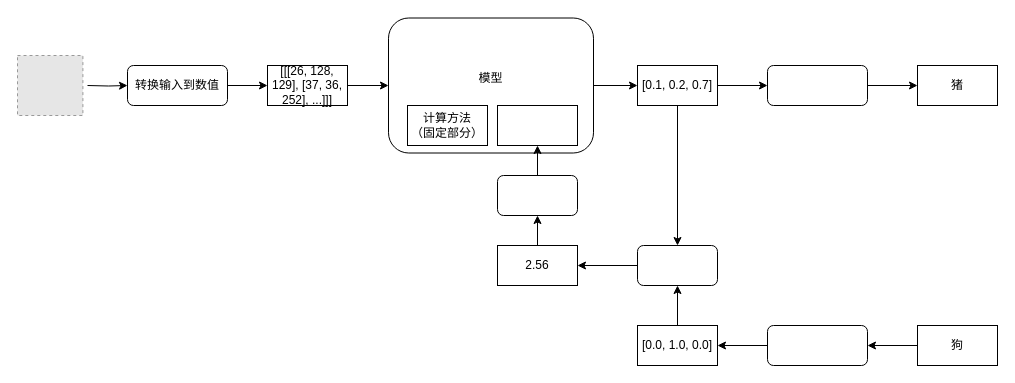
This 1015x383 diagram has some shape labels left out. Grey dashed boxes stand in for pictures. The box of each missing label's shape, as (x1, y1, x2, y2) in pixels:
参数 (非固定部分): (496, 104, 578, 146)
根据损失调整: (496, 174, 578, 216)
比较: (636, 244, 718, 286)
转换数值到输出: (766, 64, 868, 106)
转换输出到数值: (766, 324, 868, 366)
